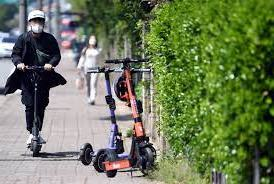helmet: (6, 8, 65, 158)
